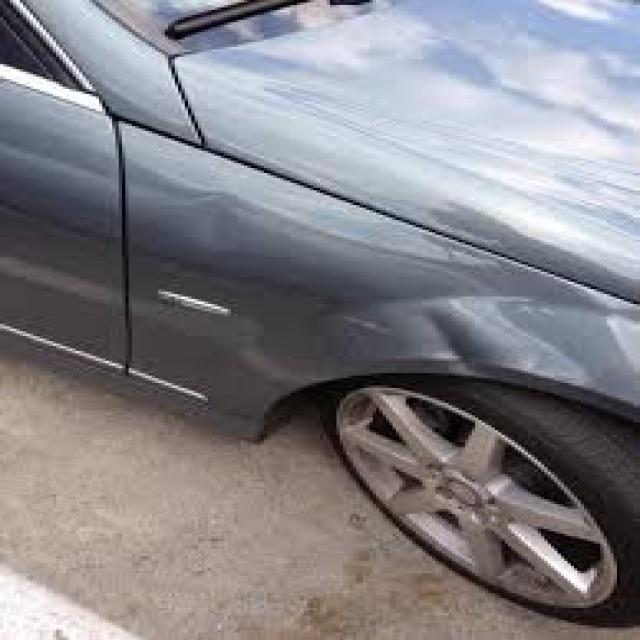minor: (216, 223, 640, 428)
